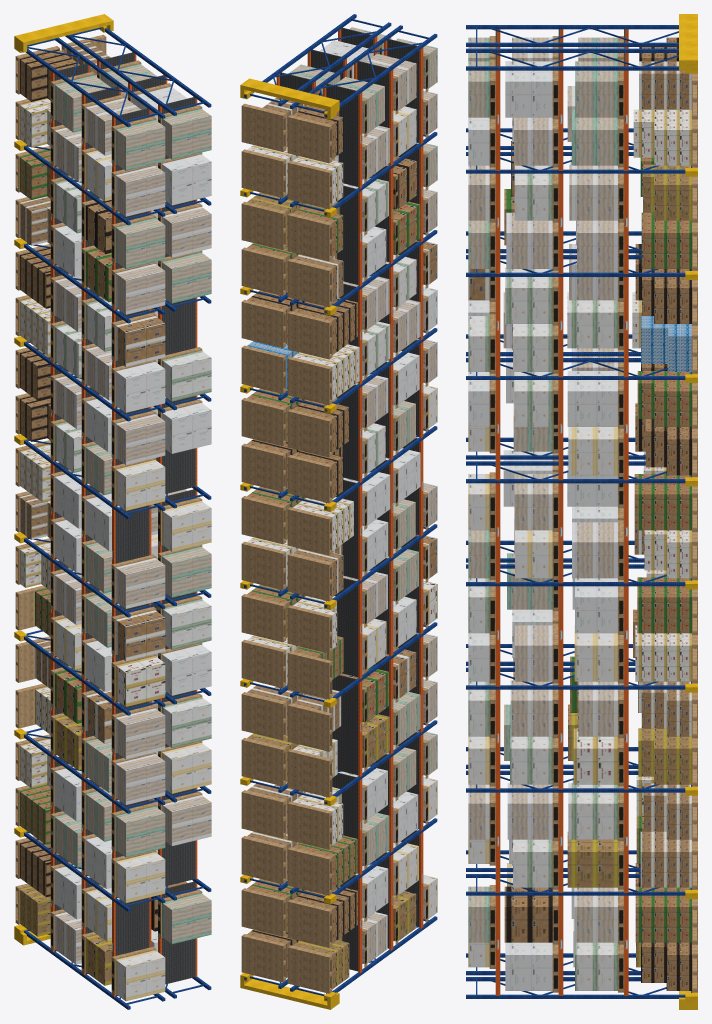
File: racks_w3_s.gltf
3 renders of one model, left to right at view 1: azimuth 30°, elevation 25°; view 2: azimuth 150°, elevation 25°; view 3: azimuth 270°, elevation 25°, orthographic. The views are drawn at different scales.
Parts seen in each view (by area): view 1: racks_w3_s; view 2: racks_w3_s; view 3: racks_w3_s.
Boxes of the visible parts, box(x1,y1,x2,y2) form: racks_w3_s: box(14, 14, 211, 1009); racks_w3_s: box(240, 14, 437, 1009); racks_w3_s: box(466, 14, 697, 1009).
Bounding box in the file's own units: 2.6 × 24.86 × 5.5.
20 materials, 20 textured.
